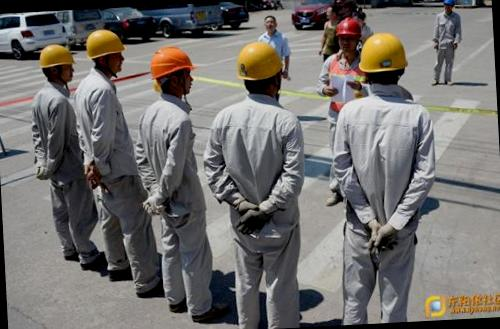no_helmet: (261, 8, 281, 35), (322, 1, 340, 20)
